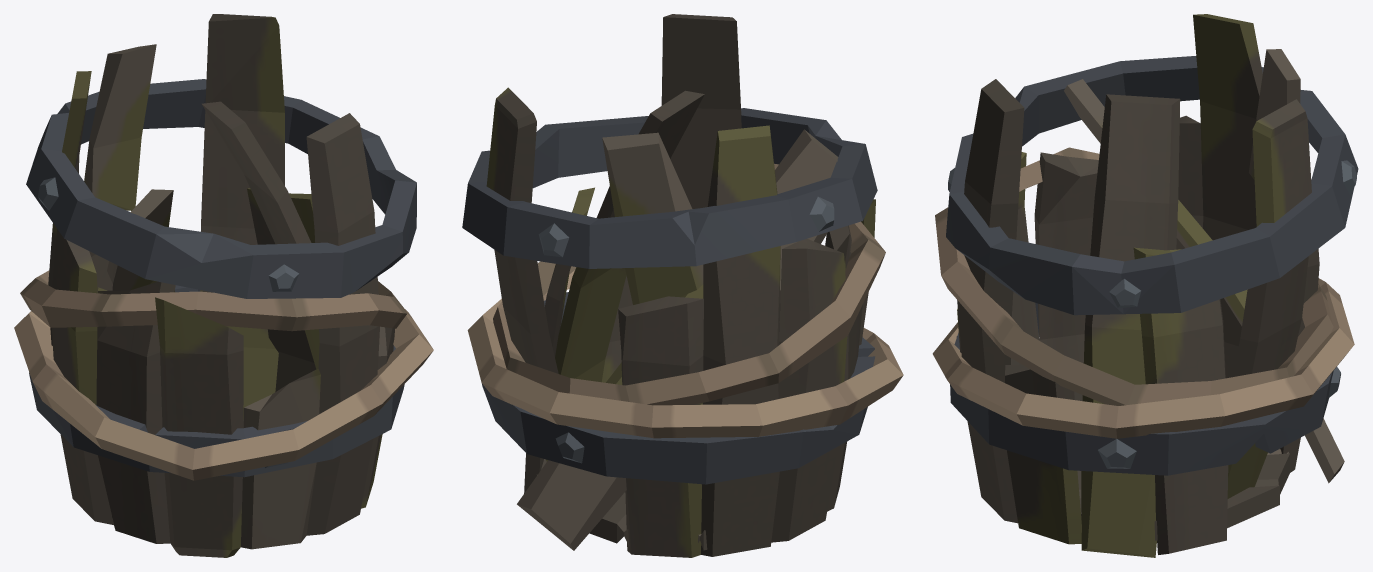
File: SM_Prop_Barrel_Broken_02.fbx
The picture shows the model from 3 angles, left to right: view 1: azimuth 30°, elevation 25°; view 2: azimuth 150°, elevation 25°; view 3: azimuth 270°, elevation 25°; orthographic projection. The views are drawn at different scales.
Parts seen in each view (by area): view 1: SM_Prop_Barrel_Broken_02; view 2: SM_Prop_Barrel_Broken_02; view 3: SM_Prop_Barrel_Broken_02.
Boxes of the visible parts, left/top/right/bottom form: SM_Prop_Barrel_Broken_02: left=14, top=14, right=433, bottom=557; SM_Prop_Barrel_Broken_02: left=462, top=14, right=903, bottom=557; SM_Prop_Barrel_Broken_02: left=932, top=14, right=1358, bottom=557.
Bounding box in the file's own units: 86.53 × 97.49 × 87.28.
